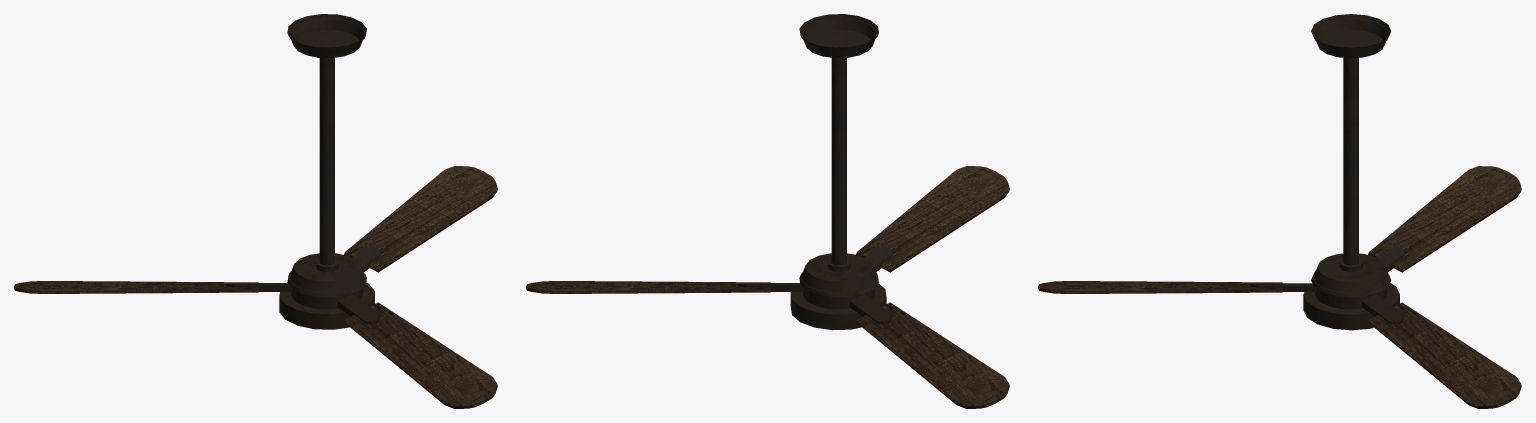
File: ceiling_fan_mp_1.glb
3 views of the same model, side by side, from view 1: azimuth 30°, elevation 25°; view 2: azimuth 150°, elevation 25°; view 3: azimuth 270°, elevation 25° (orthographic).
Visible parts, largest first — view 1: ceiling_fan_mp_1_blades, ceiling_fan_mp_1; view 2: ceiling_fan_mp_1_blades, ceiling_fan_mp_1; view 3: ceiling_fan_mp_1_blades, ceiling_fan_mp_1.
Part boxes in pixels (box(x1,y1,x2,y2)): ceiling_fan_mp_1_blades: box(14, 166, 497, 408); ceiling_fan_mp_1: box(279, 14, 374, 329); ceiling_fan_mp_1_blades: box(526, 166, 1009, 408); ceiling_fan_mp_1: box(790, 14, 886, 330); ceiling_fan_mp_1_blades: box(1038, 166, 1521, 408); ceiling_fan_mp_1: box(1303, 14, 1399, 330).
Bounding box in the file's own units: 1.02 × 0.5915 × 0.8979.
Materials: 2 (2 with a texture image).
